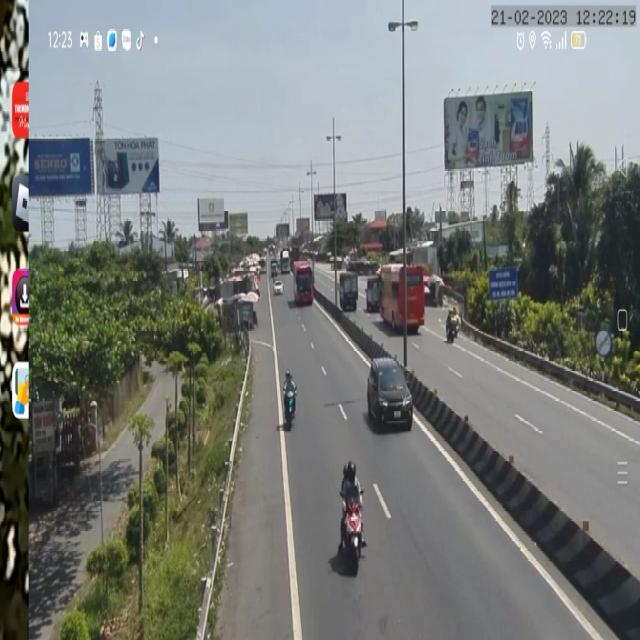bus: (380, 264, 425, 332), (294, 260, 316, 310)
car: (368, 360, 414, 432), (272, 278, 283, 292)
motorbike: (336, 457, 368, 572), (282, 370, 298, 427), (446, 306, 456, 343)
truck: (341, 268, 358, 311), (367, 278, 383, 313)
